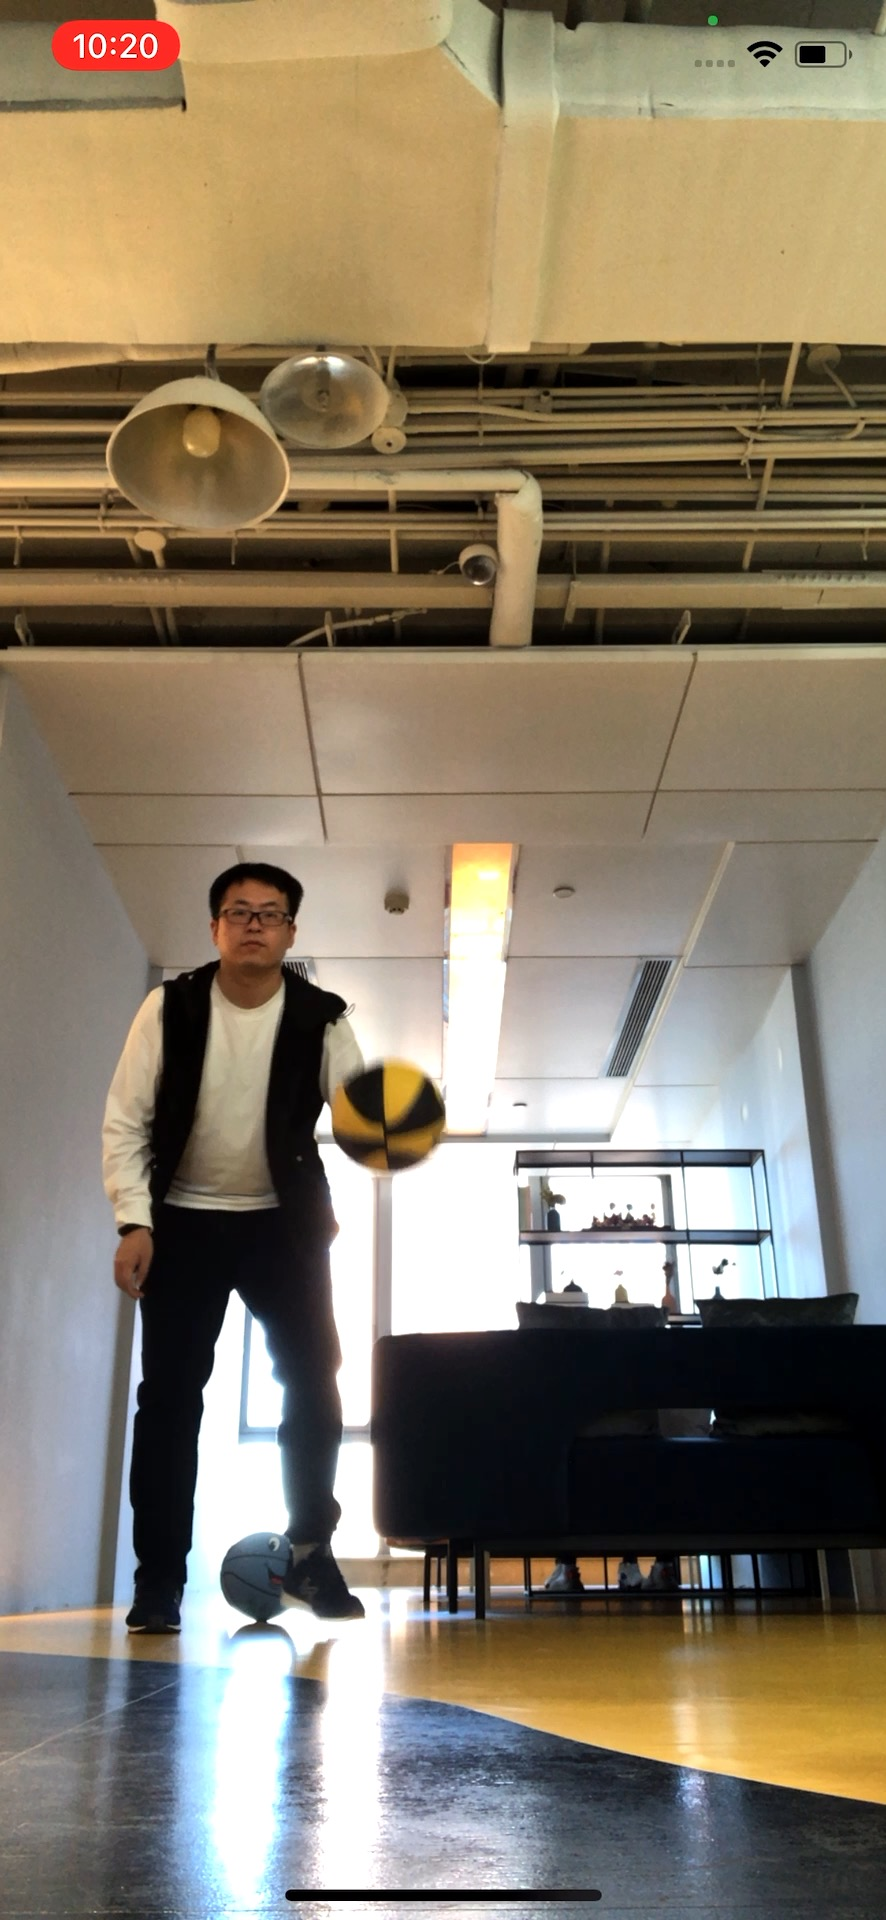ball: (329, 1059, 445, 1174), (218, 1533, 296, 1616)
